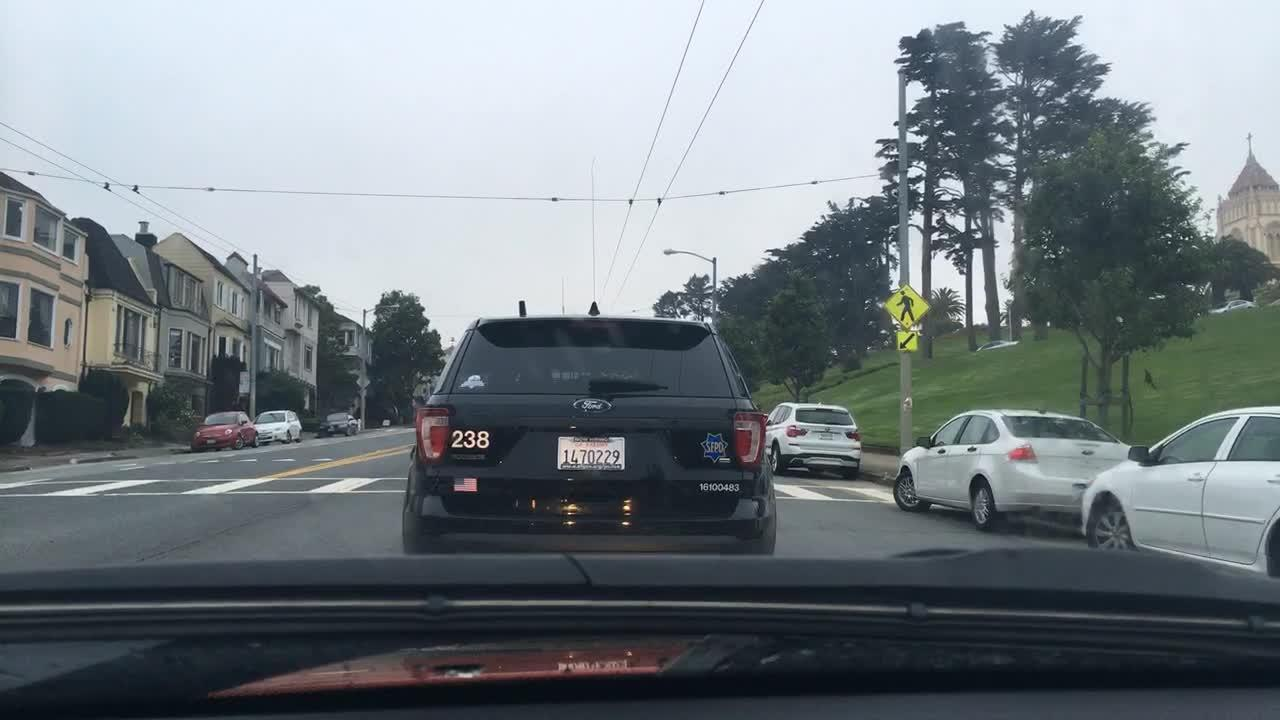ford: (573, 394, 613, 417)
